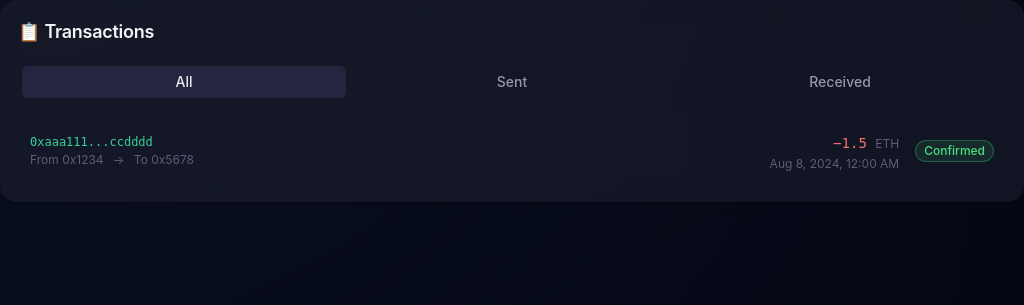
Scenario: TransactionHistory.svelte › shows "No received transactions" when filtered
What coordinates should you click on to do the following:
click the tab "Received"
I would click on:
 (840, 82)
Its box is [678,66,1002,98].
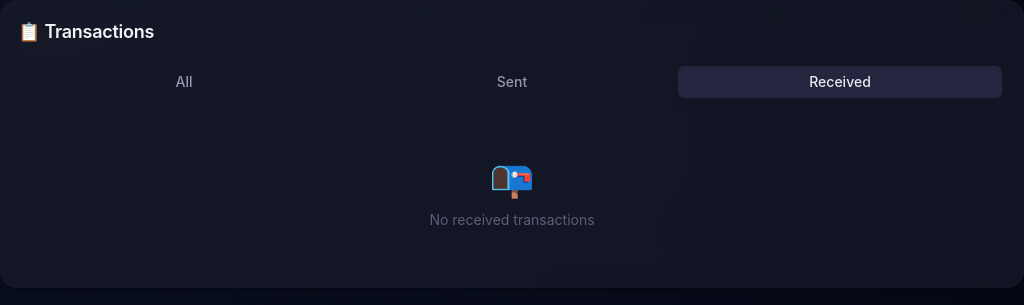
Check: the text "No received transactions" is shown, box [429,211,595,228]
